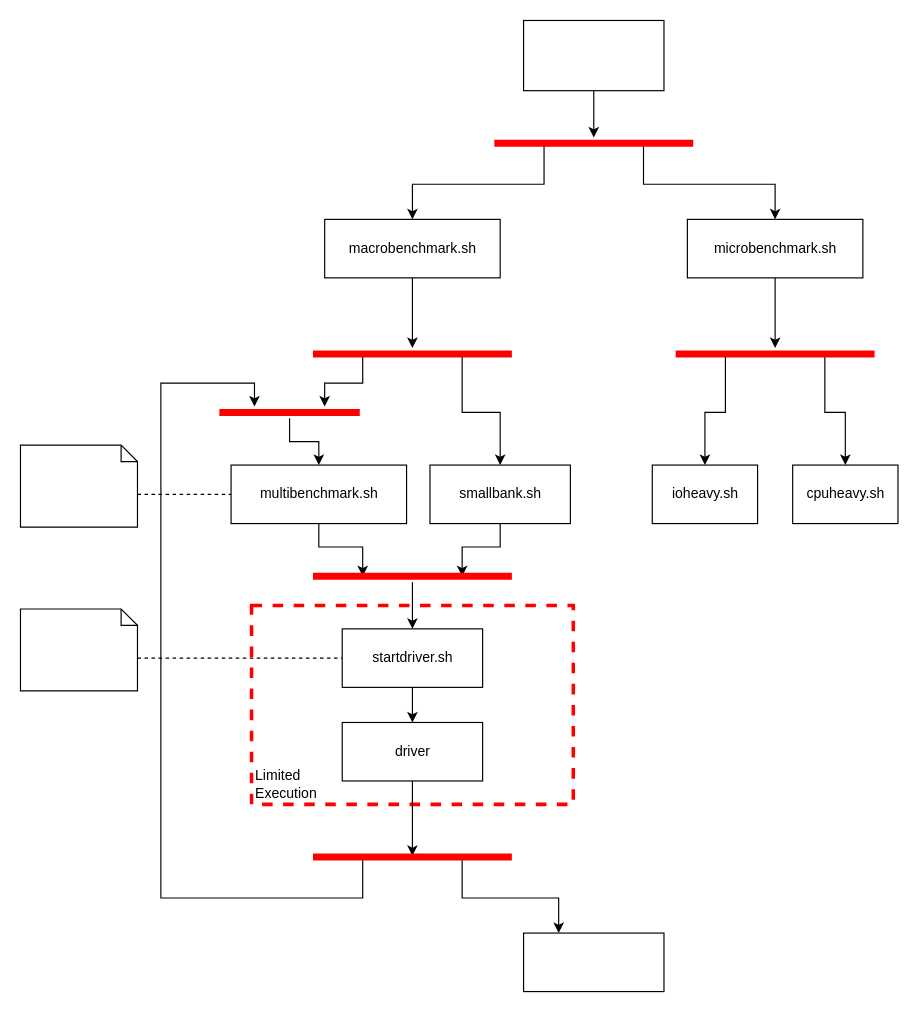
The diagram is 918 pixels wide and 1012 high, and some of its shapes have lost their labels. The shapes that lost their labels are listed below. From the top down, each one's centre as x and y in pixels, then its label:
At [593,55]: "executeall.sh".
At [78,485]: "- ycsb - donothing".
At [78,649]: "- starts network - installs chaincode".
At [593,962]: "parser.py".
